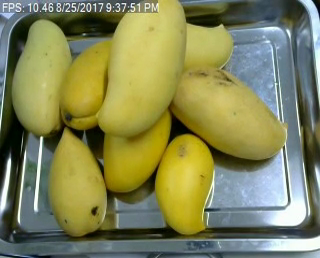Mango: (167, 57, 287, 166), (104, 2, 189, 140), (6, 14, 74, 139), (98, 92, 179, 195), (42, 130, 116, 236), (55, 33, 122, 134), (155, 131, 215, 239), (183, 20, 229, 74)
